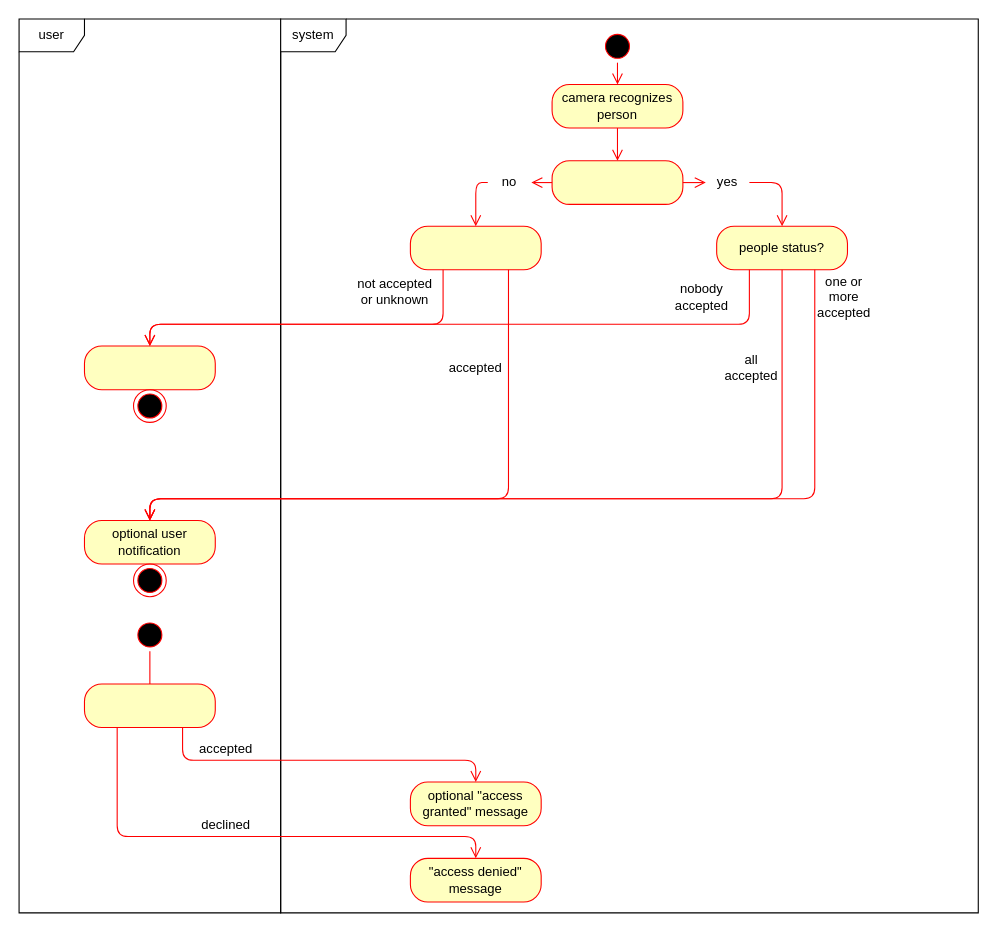
Some shapes in this 997 by 932 pixel diagram are drawn without their labels. The shapes that lost their labels are listed below. From the top down, each one's centre as x and y in pixels, then its label:
point 617,182: more than one person
point 475,247: person's status?
point 149,367: user notification
point 149,705: users decision
